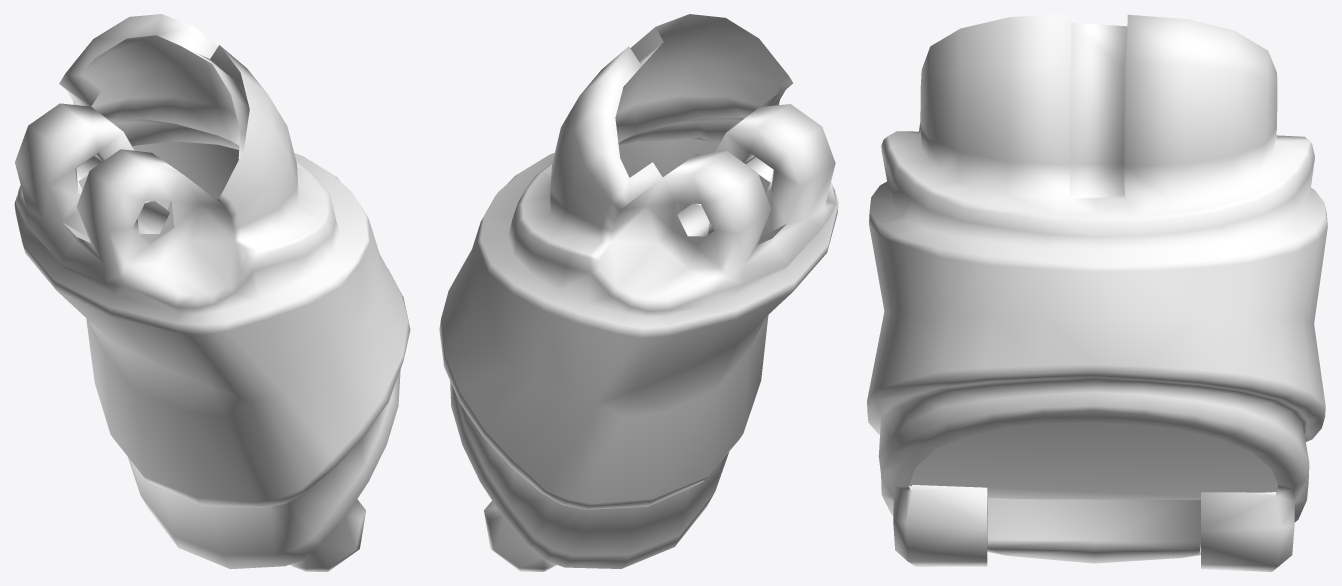
File: RThumb1.dae
The picture shows the model from 3 angles, left to right: view 1: azimuth 30°, elevation 25°; view 2: azimuth 150°, elevation 25°; view 3: azimuth 270°, elevation 25°; orthographic projection. The views are drawn at different scales.
Parts seen in each view (by area): view 1: RThumb1; view 2: RThumb1; view 3: RThumb1.
Part boxes in pixels (box(x1,y1,x2,y2)): RThumb1: box(14, 14, 410, 571); RThumb1: box(439, 14, 838, 571); RThumb1: box(867, 14, 1327, 571).
Size of the model in its own units: 0.0136 by 0.0159 by 0.0213.
